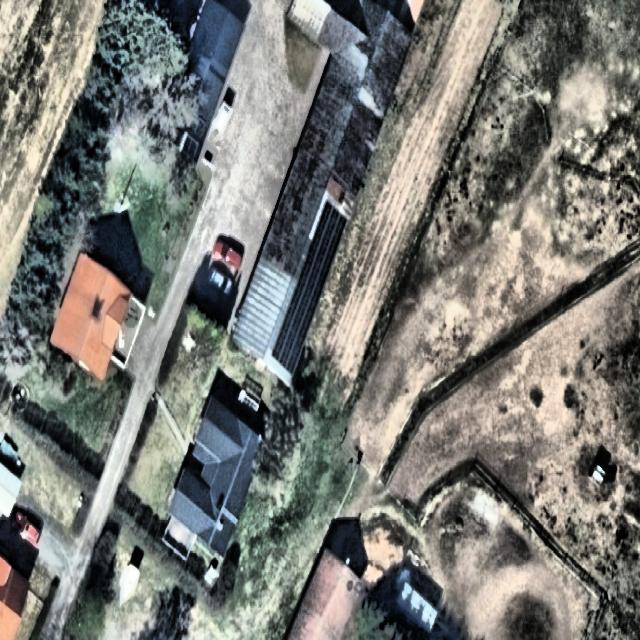roof_pv: (304, 194, 348, 282), (270, 308, 310, 380), (287, 266, 326, 334)
